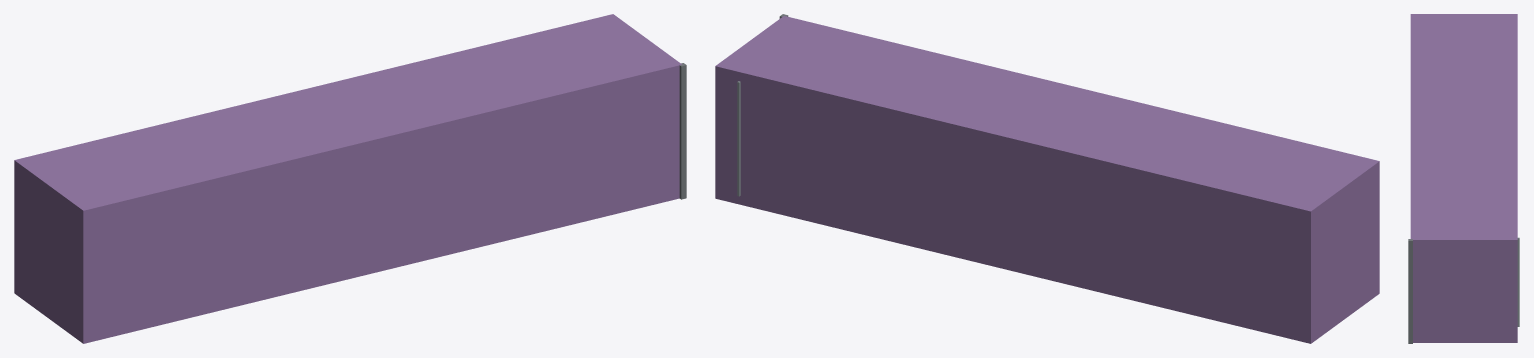
Rendered from container-40dv-lod0.glb.
3 renders of one model, left to right at view 1: azimuth 30°, elevation 25°; view 2: azimuth 150°, elevation 25°; view 3: azimuth 270°, elevation 25°, orthographic. The views are drawn at different scales.
Visible parts, largest first — view 1: body, corner; view 2: body; view 3: body, corner, rib.
Boxes of the visible parts, x1=… form: body: x1=14, y1=14, x2=681, y2=343; corner: x1=679, y1=63, x2=686, y2=199; body: x1=715, y1=16, x2=1379, y2=343; body: x1=1410, y1=14, x2=1517, y2=342; corner: x1=1408, y1=239, x2=1412, y2=343; rib: x1=1517, y1=237, x2=1519, y2=326.
Bounding box in the file's own units: 12.24 × 2.59 × 2.54.
